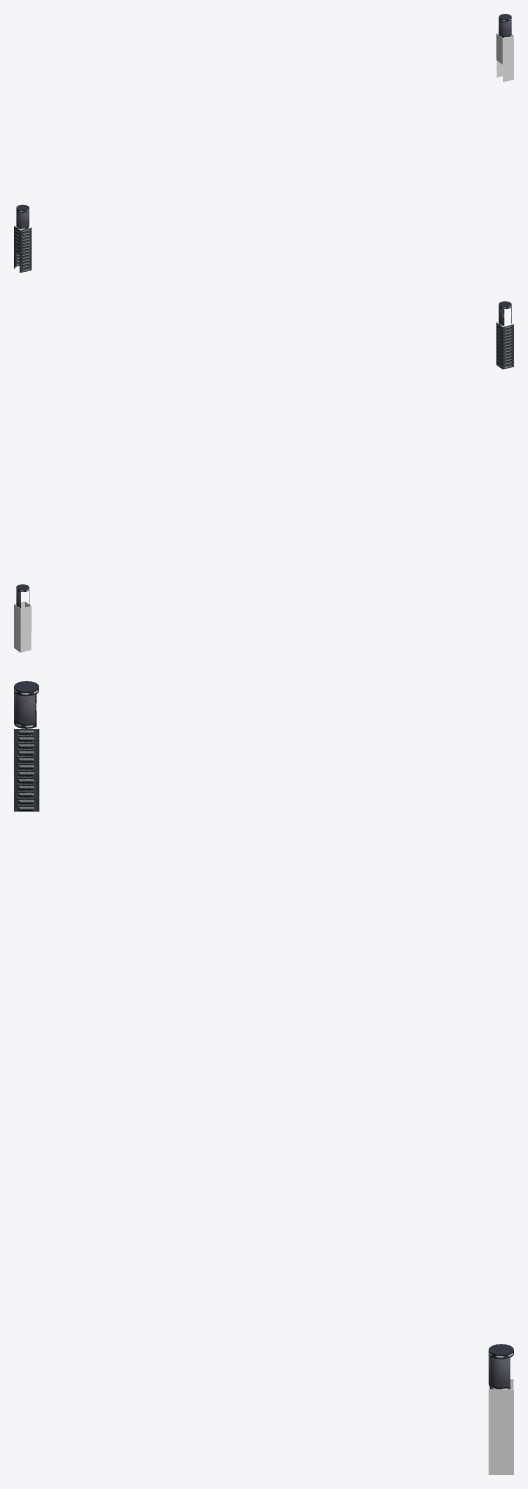
Rendered from bldg_lab_chute.gltf.
The picture shows the model from 3 angles, top to bottom: view 1: azimuth 30°, elevation 25°; view 2: azimuth 210°, elevation 25°; view 3: azimuth 270°, elevation 25°; orthographic projection. The views are drawn at different scales.
Parts seen in each view (by area): view 1: chute_column, polymsh87, chute_tube, chute_tube_lowrez; view 2: chute_column, polymsh_detached5; view 3: chute_column, cube189, chute_tube_lowrez, chute_tube.
Part boxes in pixels (<box>): chute_column: <box>14,226,31,272</box>; polymsh87: <box>503,35,513,82</box>; chute_tube: <box>16,204,29,229</box>; chute_tube_lowrez: <box>498,14,511,37</box>; chute_column: <box>496,322,513,369</box>; polymsh_detached5: <box>20,606,31,652</box>; chute_column: <box>14,729,39,811</box>; cube189: <box>489,1389,513,1474</box>; chute_tube_lowrez: <box>488,1344,513,1389</box>; chute_tube: <box>14,681,38,728</box>.
Size of the model in its own units: 110 by 18.42 by 39.77.
Materials: 5 (5 with a texture image).
